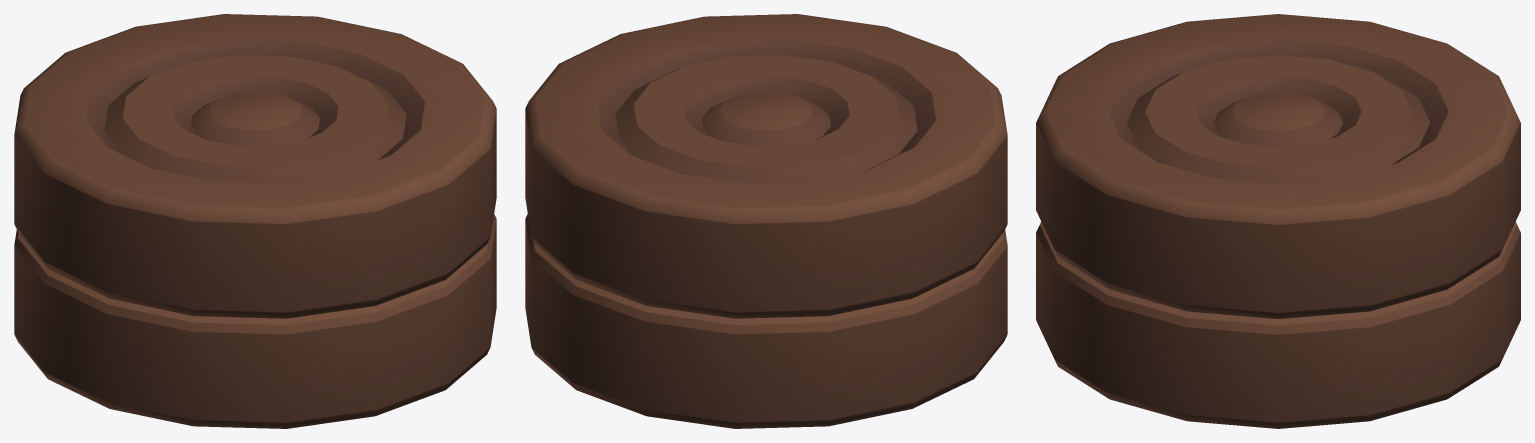
Rendered from checker_black_double.obj.
3 views of the same model, side by side, from view 1: azimuth 30°, elevation 25°; view 2: azimuth 150°, elevation 25°; view 3: azimuth 270°, elevation 25° (orthographic).
Visible parts, largest first — view 1: checker_black_double; view 2: checker_black_double; view 3: checker_black_double.
Part boxes in pixels (left/top/right/bottom): checker_black_double: left=14, top=14, right=496, bottom=428; checker_black_double: left=525, top=14, right=1007, bottom=428; checker_black_double: left=1036, top=14, right=1520, bottom=428.
Size of the model in its own units: 0.8 by 0.4 by 0.8.
Materials: 1 (1 with a texture image).
